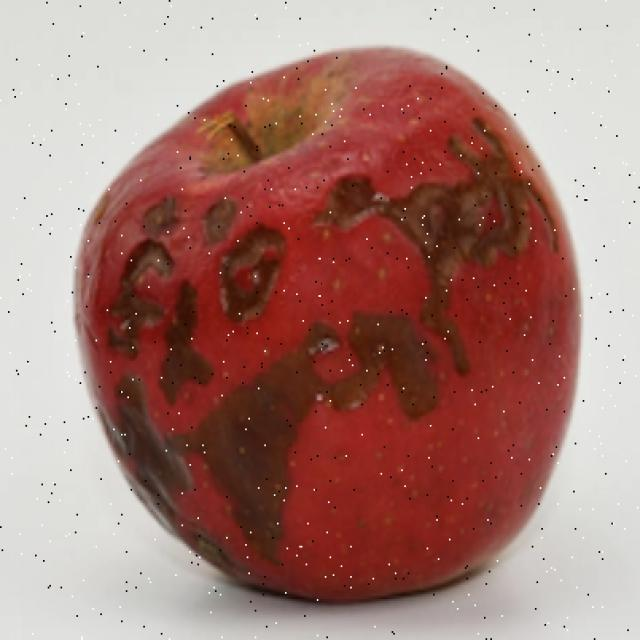Rotten: (90, 39, 555, 614)
